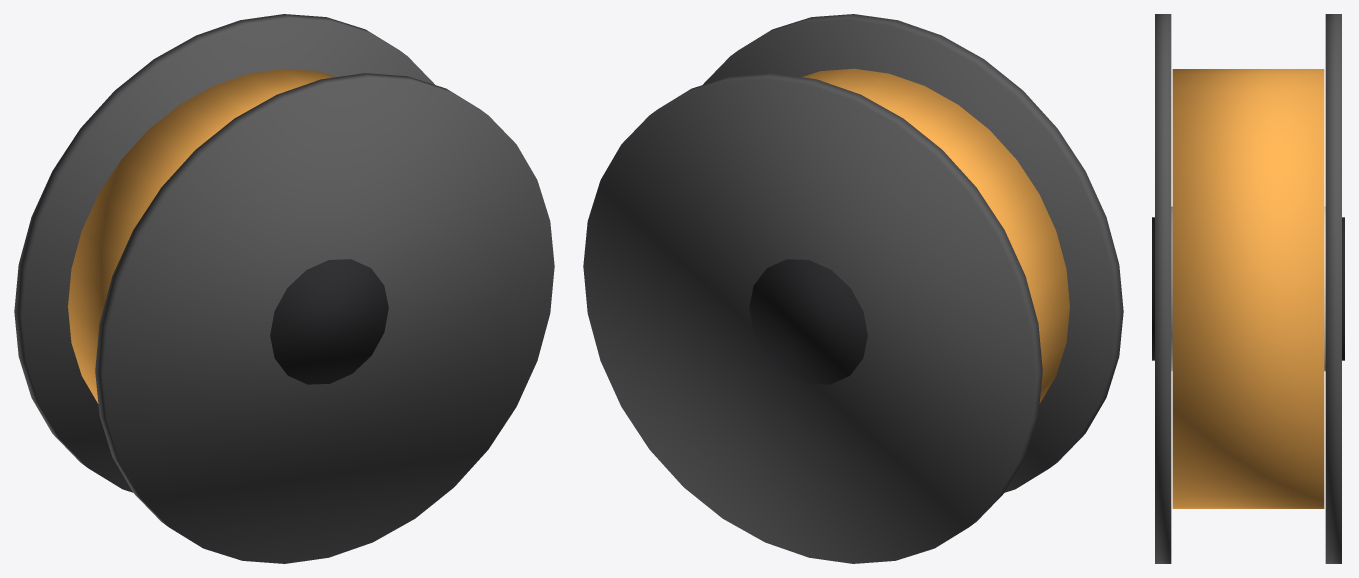
The model's file is SM_Filament.glb.
3 renders of one model, left to right at view 1: azimuth 30°, elevation 25°; view 2: azimuth 150°, elevation 25°; view 3: azimuth 270°, elevation 25°, orthographic. The views are drawn at different scales.
Parts seen in each view (by area): view 1: SM_Filament; view 2: SM_Filament; view 3: SM_Filament.
Part boxes in pixels (box(x1,y1,x2,y2)): SM_Filament: box(14, 14, 554, 563); SM_Filament: box(583, 14, 1123, 563); SM_Filament: box(1152, 14, 1344, 563).
Size of the model in its own units: 0.2 by 0.2 by 0.07.
